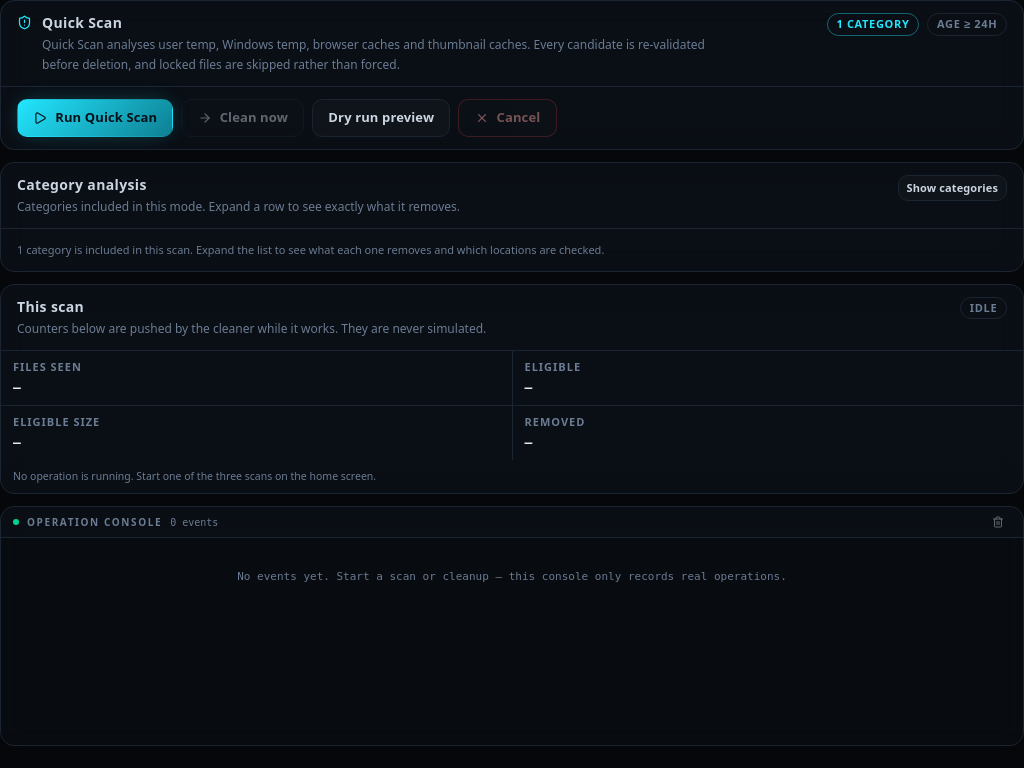
Test: Clean page flow › surfaces scan failures instead of pretending success
Click the button "Run Quick Scan" at (95,118), box [17,99,174,136]
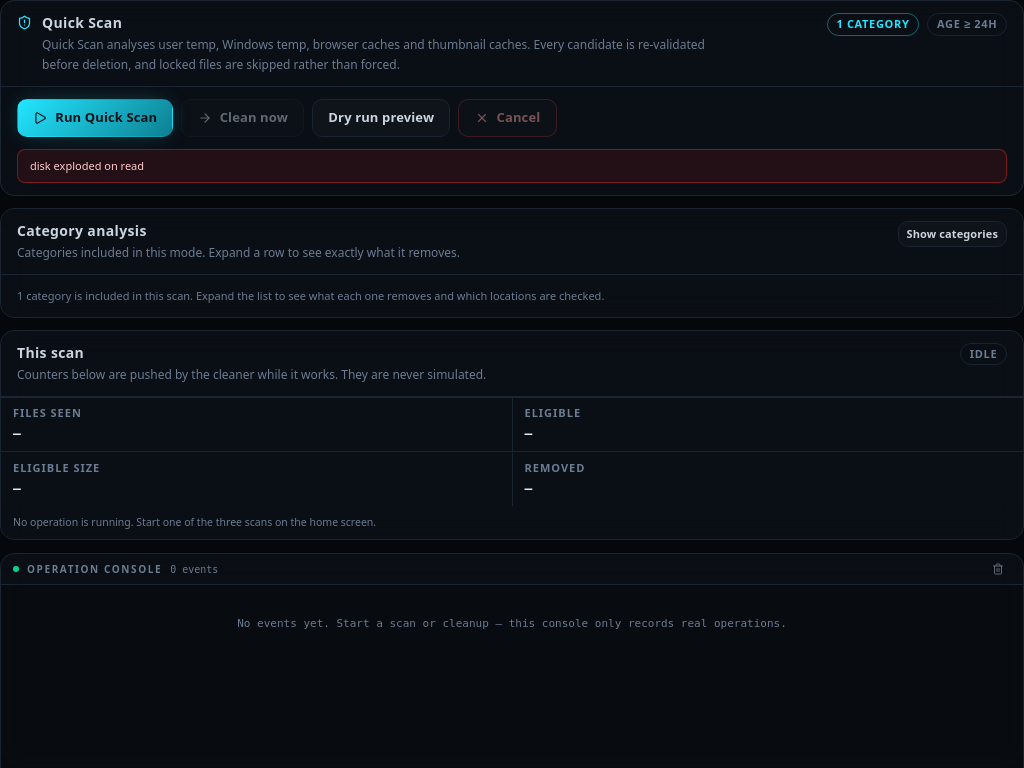
Expected: the text "disk exploded on read" is shown, [17,148,1007,183]
